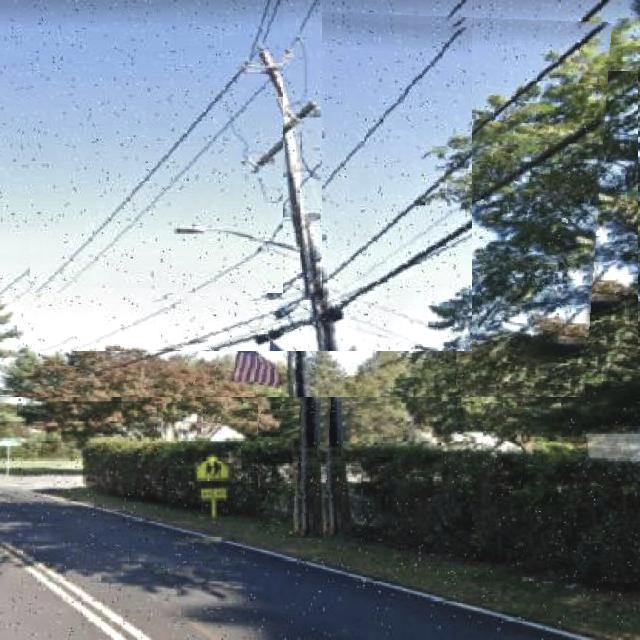crossarm: (249, 104, 320, 173)
pole: (258, 48, 331, 538)
wire: (0, 18, 612, 392), (132, 71, 634, 369), (69, 21, 472, 351), (31, 0, 321, 304), (30, 0, 283, 293)
